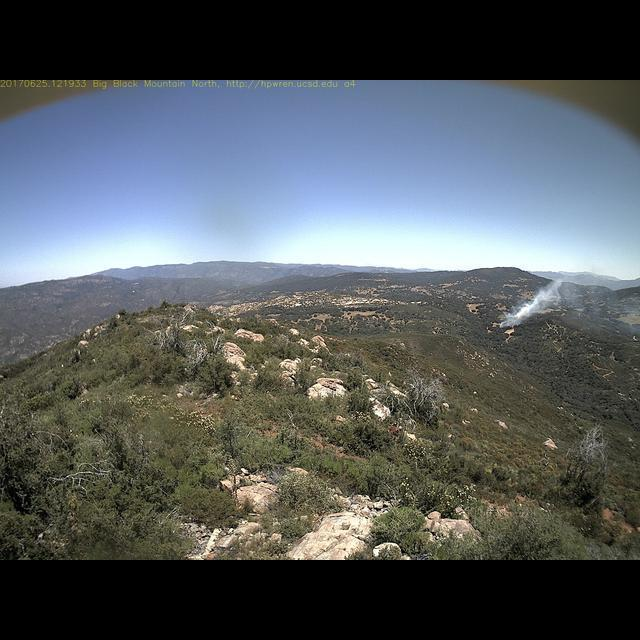Smoke: (494, 276, 574, 328)
